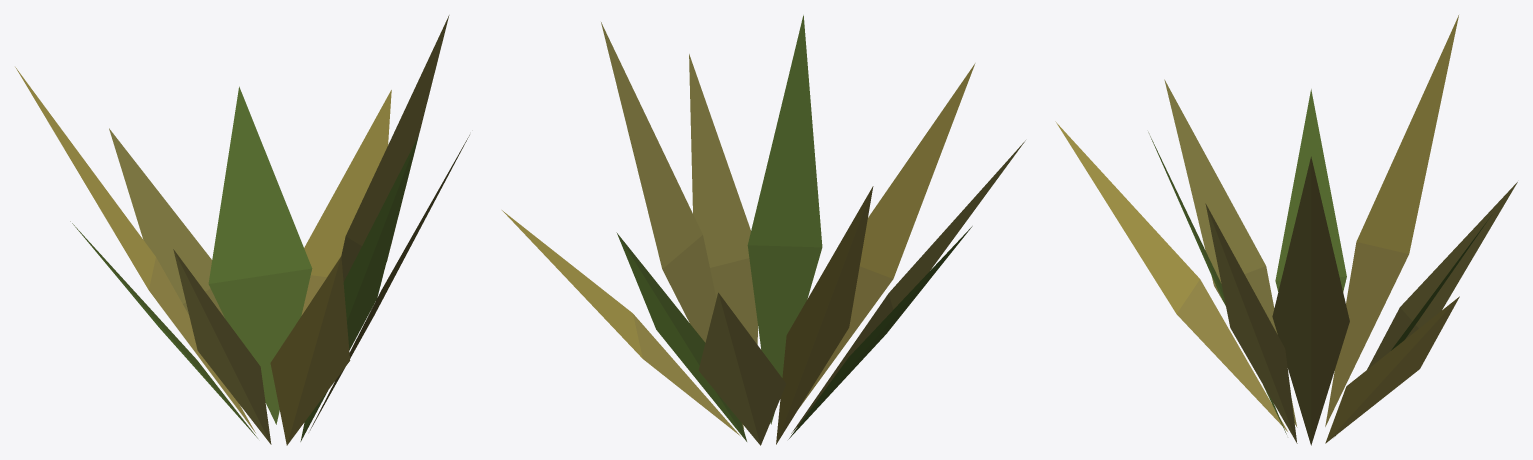
Rendered from E9_grass_tuft_a.glb.
The picture shows the model from 3 angles, left to right: view 1: azimuth 30°, elevation 25°; view 2: azimuth 150°, elevation 25°; view 3: azimuth 270°, elevation 25°; orthographic projection. The views are drawn at different scales.
Visible parts, largest first — view 1: E9_grass_tuft_a; view 2: E9_grass_tuft_a; view 3: E9_grass_tuft_a.
Boxes of the visible parts, box(x1,y1,x2,y2) form: E9_grass_tuft_a: box(15, 15, 469, 445); E9_grass_tuft_a: box(502, 15, 1025, 445); E9_grass_tuft_a: box(1055, 15, 1517, 445).
Size of the model in its own units: 0.3314 by 0.3 by 0.3532.
